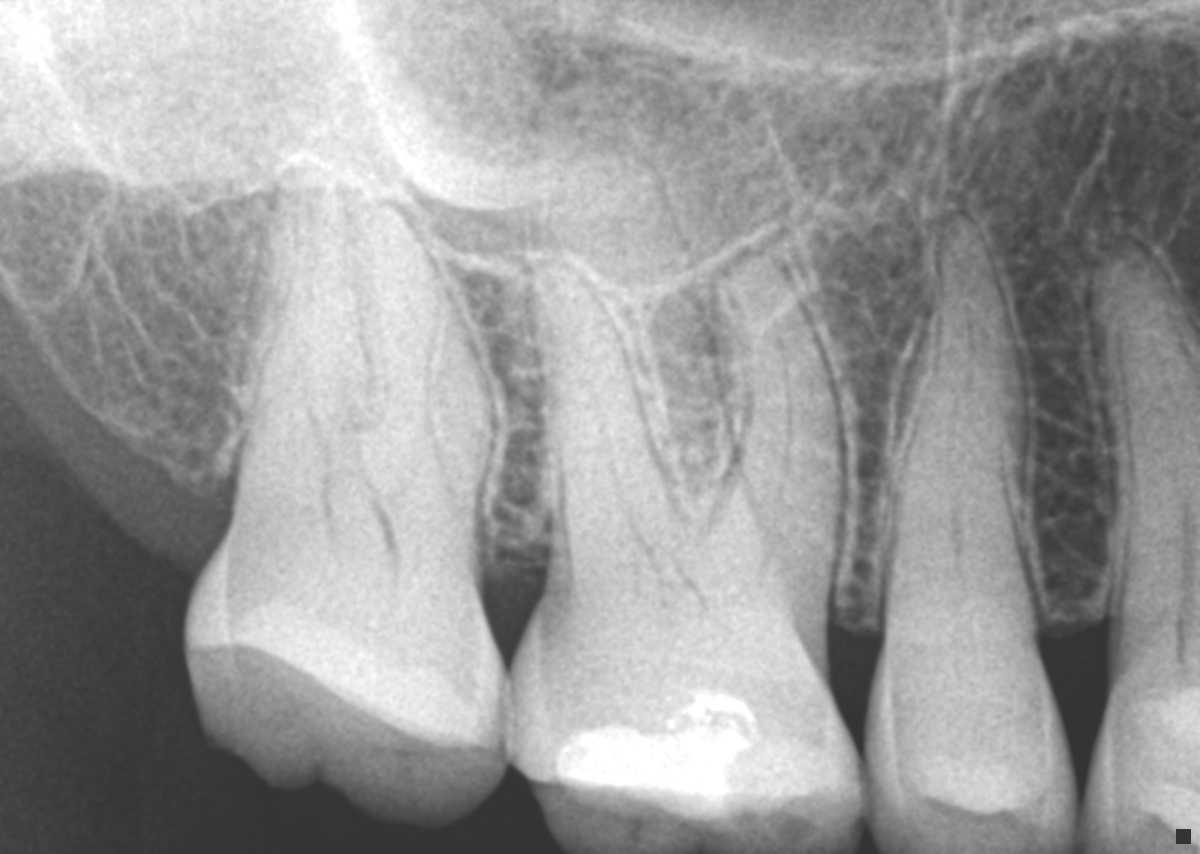Distal Canal: (583, 385, 661, 570)
Distal Root: (514, 263, 694, 583), (251, 186, 366, 473)
Main Canal: (946, 307, 976, 555)
Main Root: (879, 221, 1037, 636), (1089, 231, 1200, 627)
Mesial Root: (706, 250, 846, 606), (365, 204, 499, 526)
Palatal Root: (550, 146, 795, 616), (247, 152, 447, 486)
